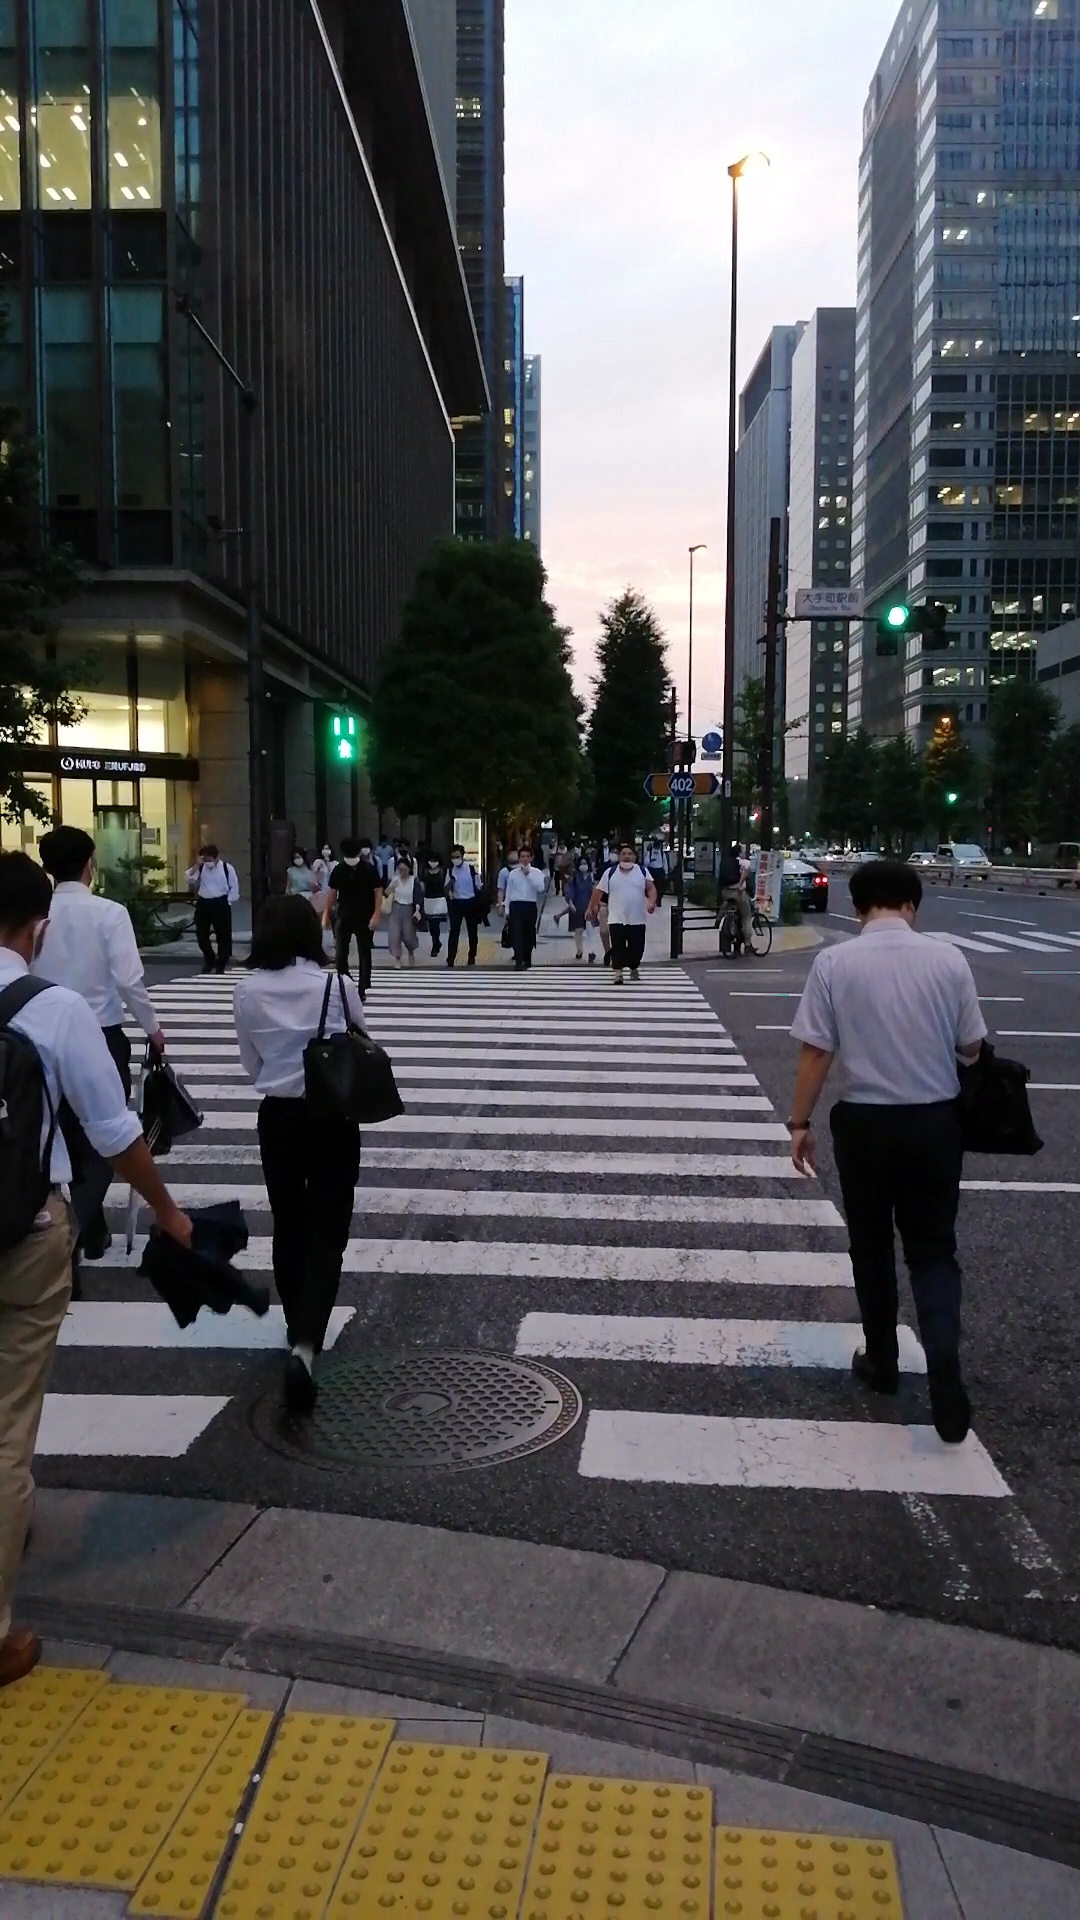green: (328, 711, 360, 764)
